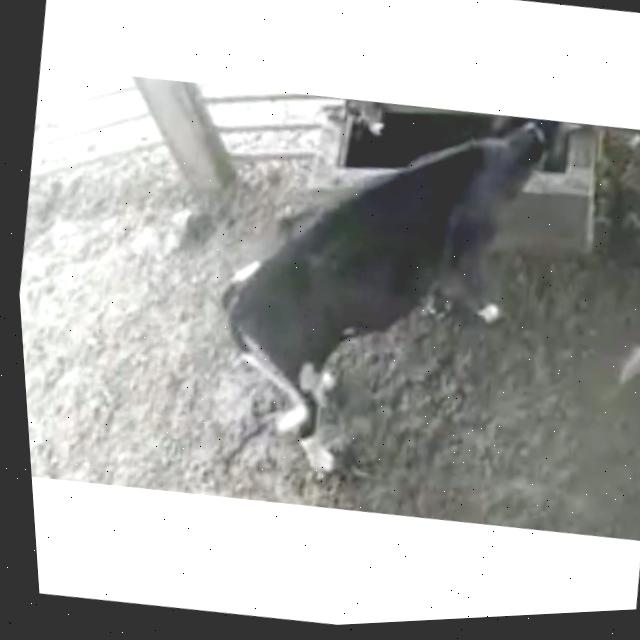drink: (438, 101, 593, 205)
